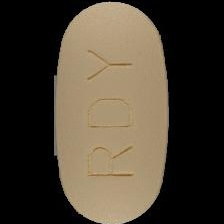68788-9268: (0, 0, 224, 224)
